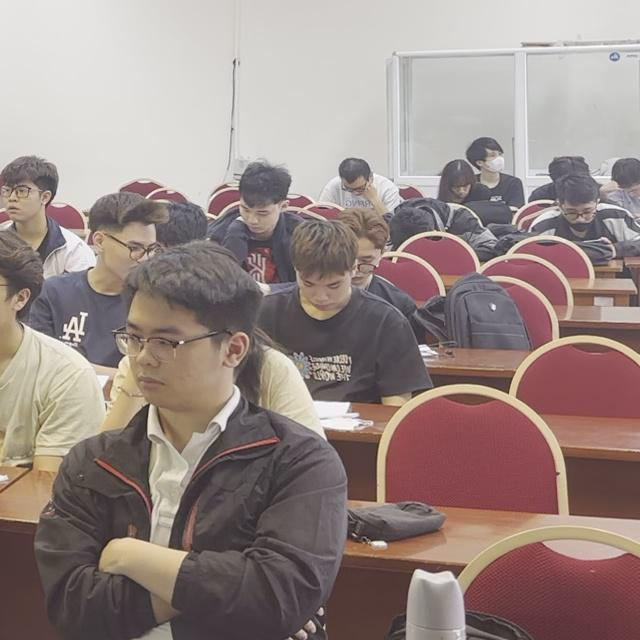Looking away: (80, 278, 250, 443), (300, 223, 373, 332), (222, 173, 281, 246), (93, 209, 159, 273), (552, 165, 597, 255), (321, 159, 377, 229), (467, 135, 527, 187), (436, 148, 479, 193), (608, 154, 640, 205)
Looking forward: (1, 229, 53, 365), (1, 153, 59, 233)
